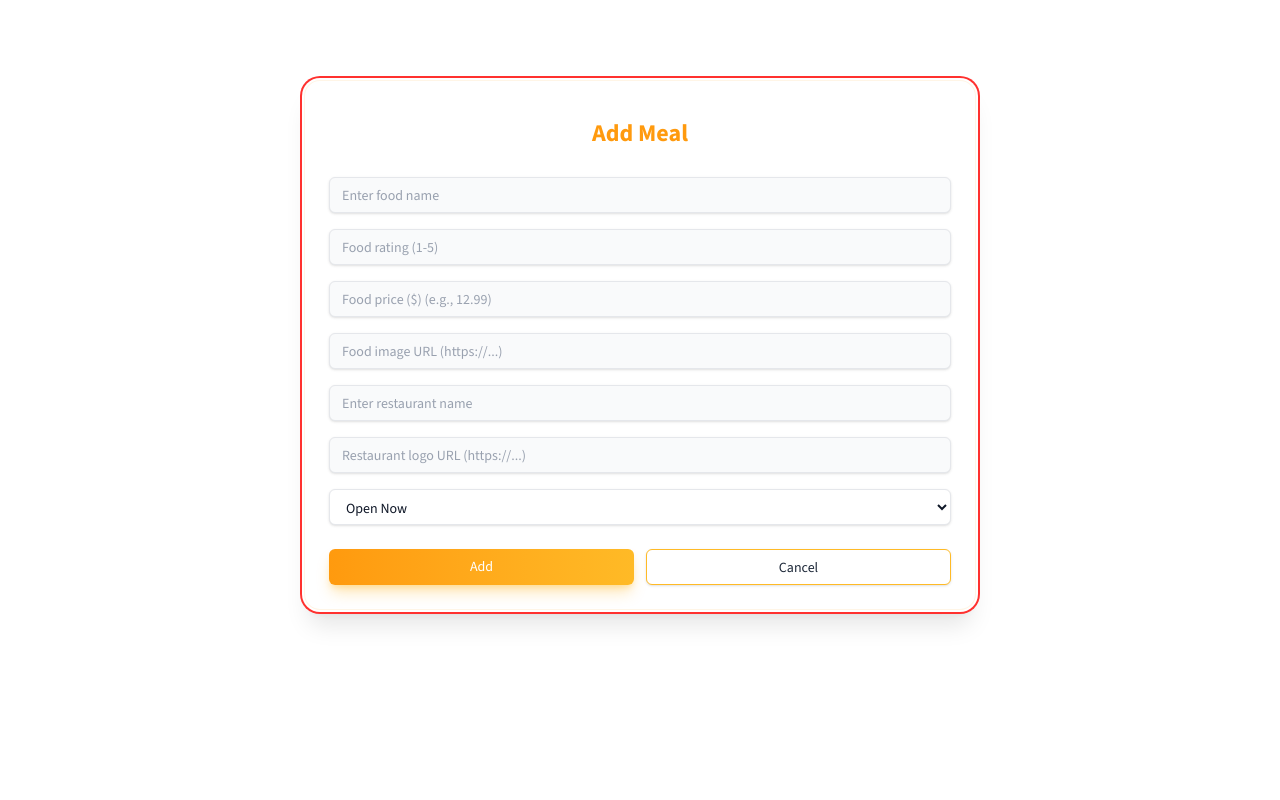
Test: FoodFormModal Component - API Mocking Tests › should show loading state during form submission
Type "Loading Test" into the field with test id "food-form-name-input" at (640, 195), box [329,177,951,213]
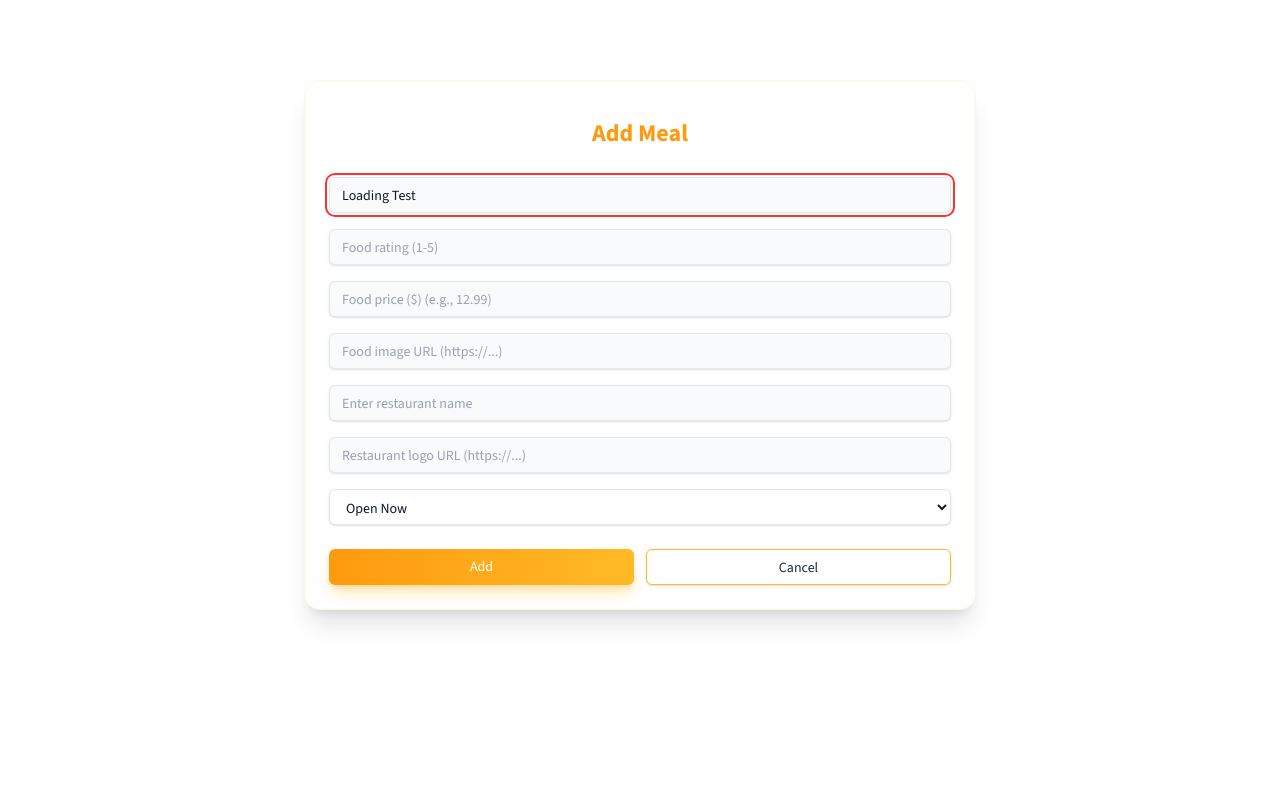
Type "Test Restaurant" into the field with test id "food-form-restaurant-input" at (640, 403), box [329,385,951,421]
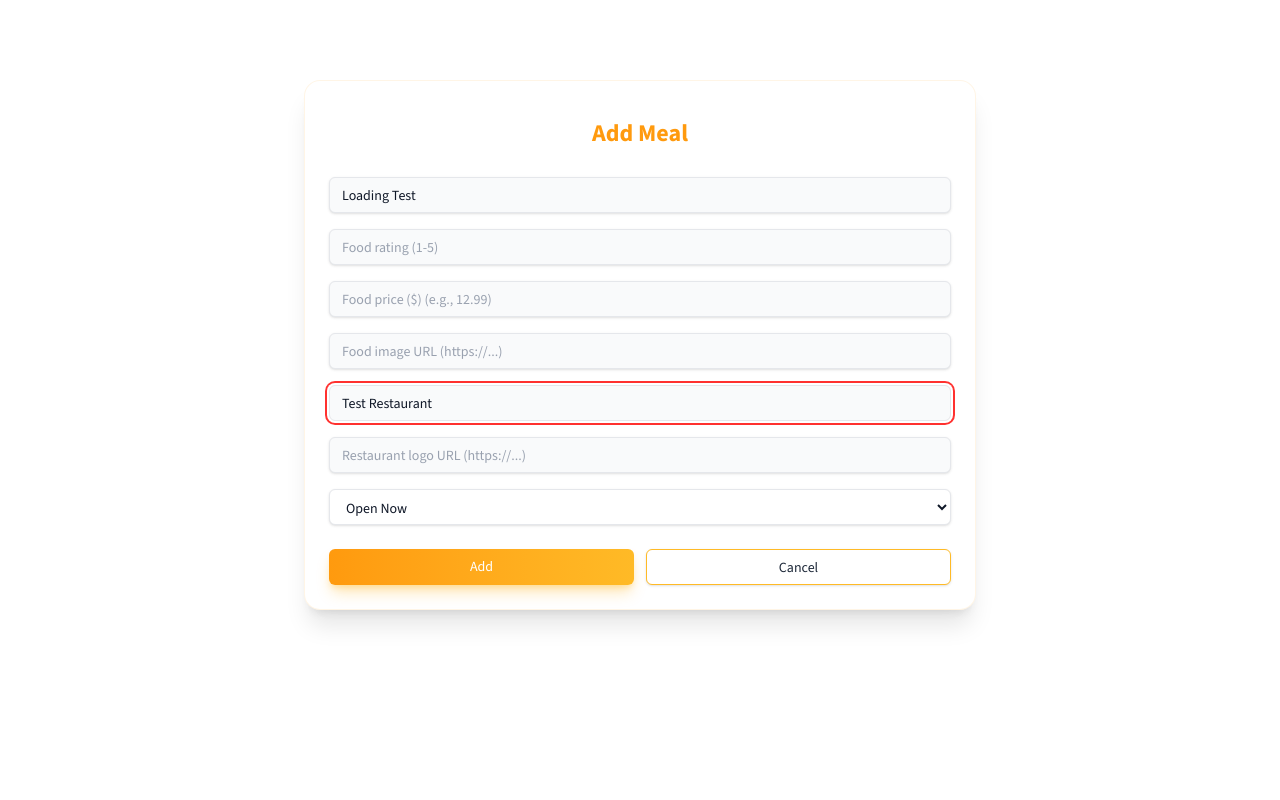
Click the button with test id "food-form-submit-btn" at (482, 567), box [329,549,634,585]
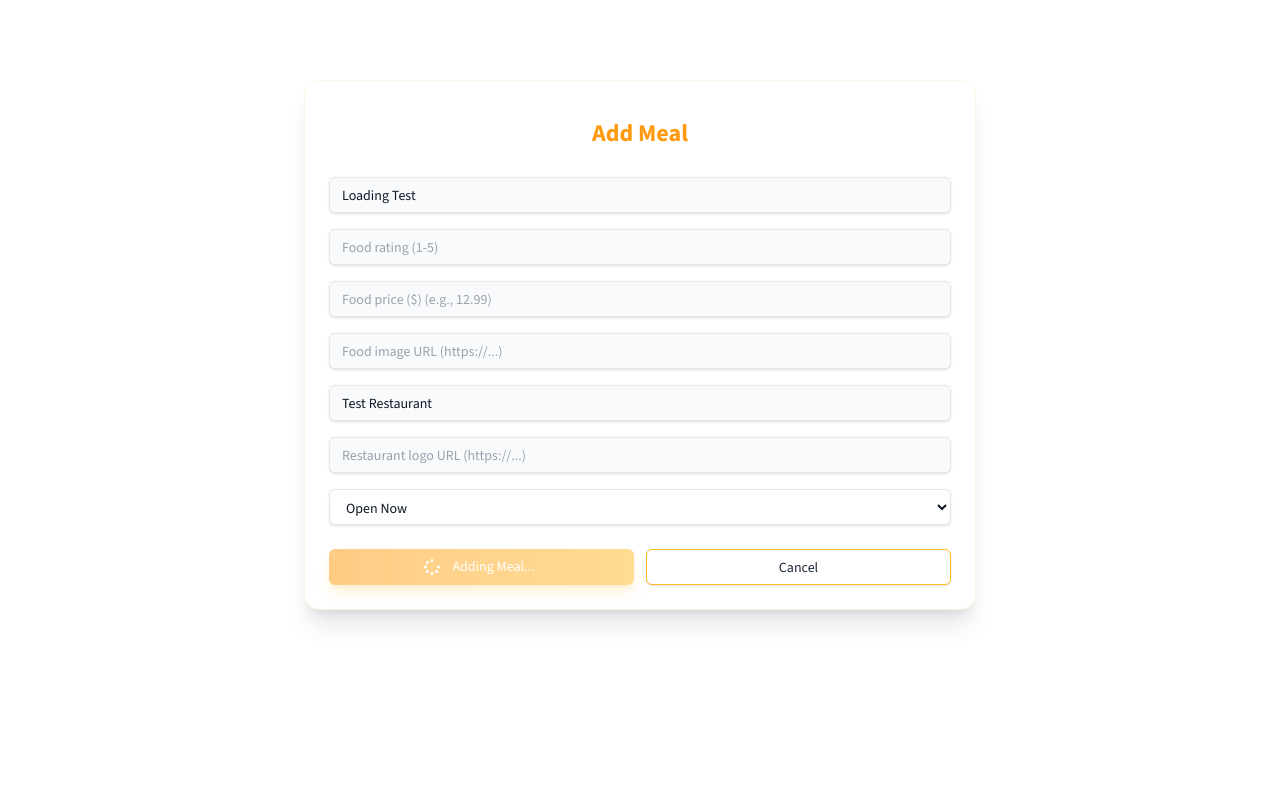
Expected: the button with test id "food-form-submit-btn" reads "Adding Meal...", [329,549,634,585]
